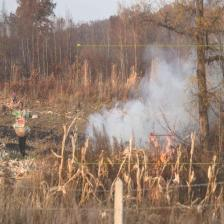fire: (150, 135, 176, 174)
smoke: (77, 45, 220, 164)
